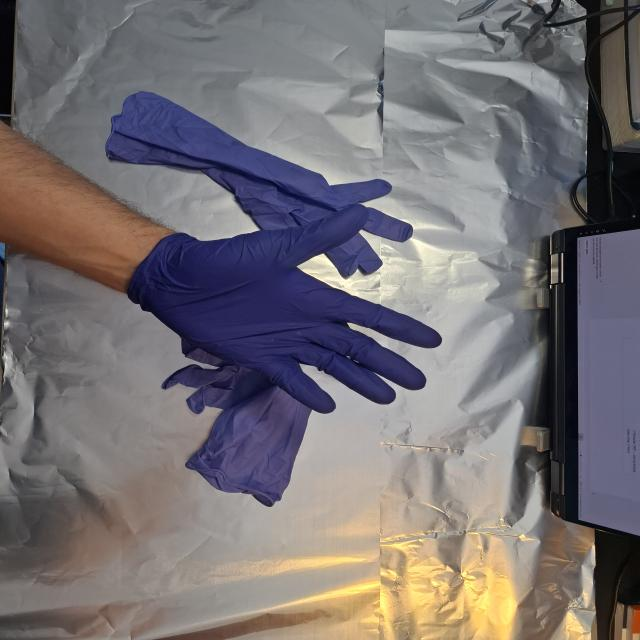glove_on: (124, 201, 444, 416)
